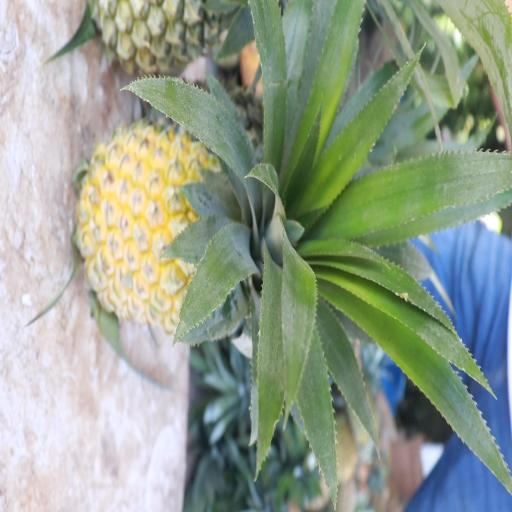Pineapple - v8 v1: (77, 121, 307, 327)
